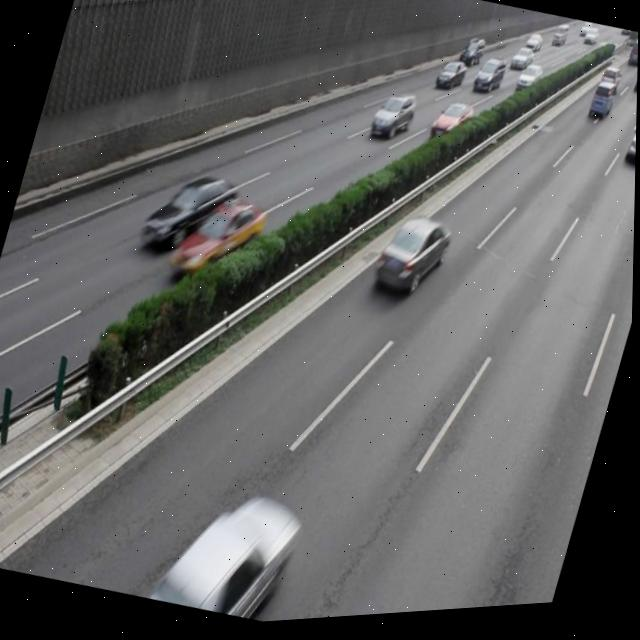car: (161, 483, 304, 631), (166, 186, 269, 295), (138, 160, 240, 269), (370, 210, 455, 307), (368, 90, 419, 149), (428, 100, 476, 150)
